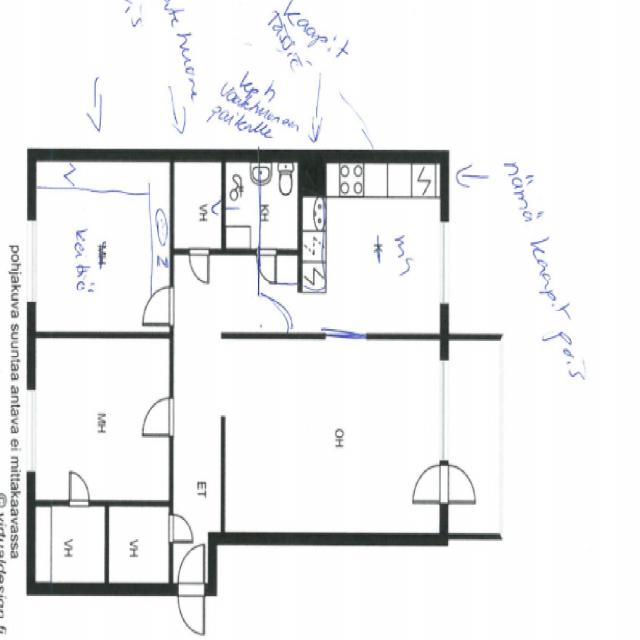door: (414, 466, 448, 504), (440, 466, 474, 504), (178, 548, 204, 596), (178, 585, 204, 633), (142, 398, 173, 437), (143, 289, 173, 326), (256, 294, 286, 329), (69, 472, 89, 508), (190, 248, 210, 283), (169, 515, 193, 544)
